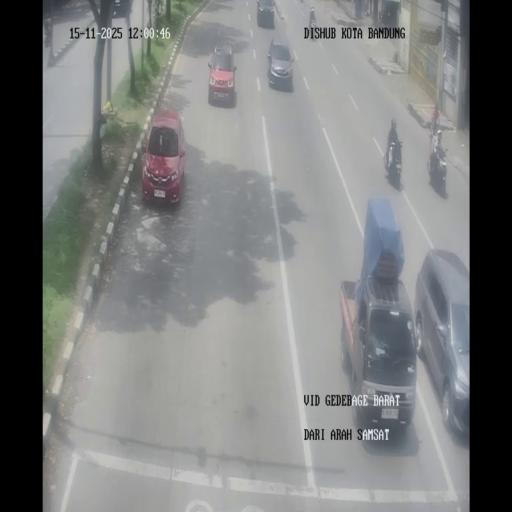car: (413, 250, 469, 437), (142, 108, 186, 204), (207, 42, 237, 107), (267, 35, 294, 92), (256, 0, 275, 27)
motorcycle: (428, 137, 448, 196), (384, 137, 402, 187), (44, 16, 52, 46), (431, 112, 440, 137), (309, 11, 316, 35), (362, 0, 369, 17), (378, 9, 383, 23)
truck: (340, 203, 415, 436)
